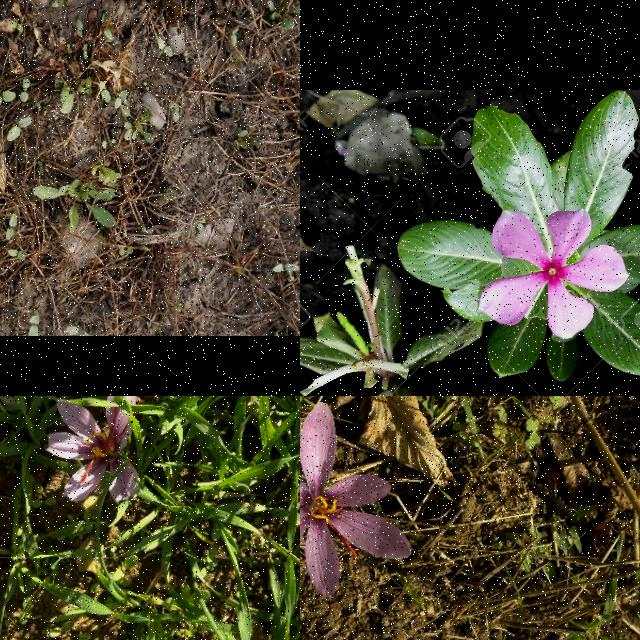flower: (300, 402, 413, 597), (45, 396, 142, 505)
